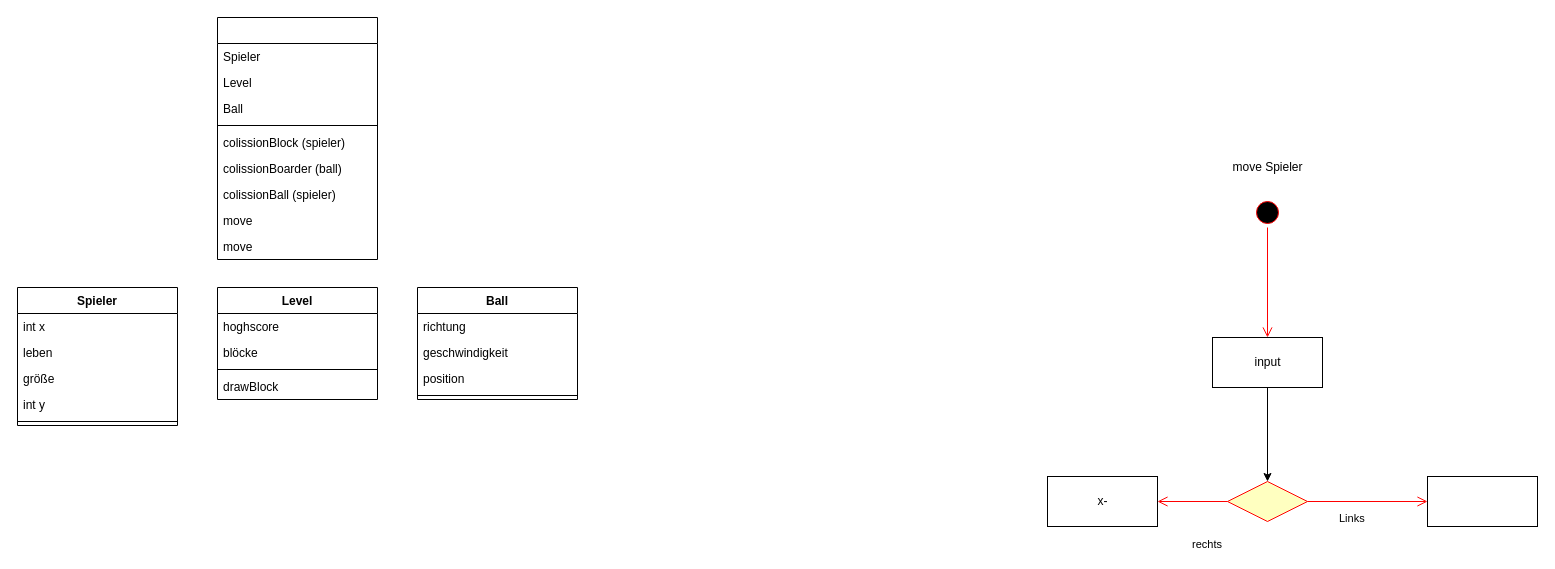
This 1555x569 diagram has some shape labels left out. Here are the shapes that lost their labels. From the top down, the box of each, then its label:
(216, 16, 378, 260): Breakout
(1426, 476, 1538, 526): x+
